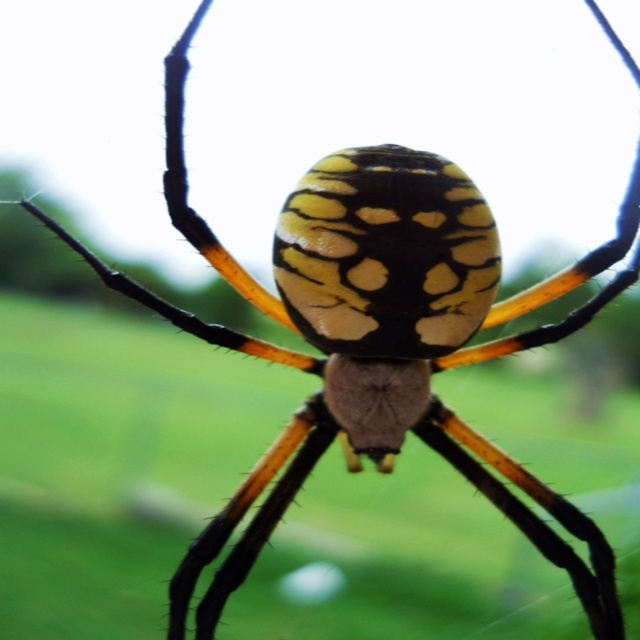Spider: (20, 0, 640, 640)
